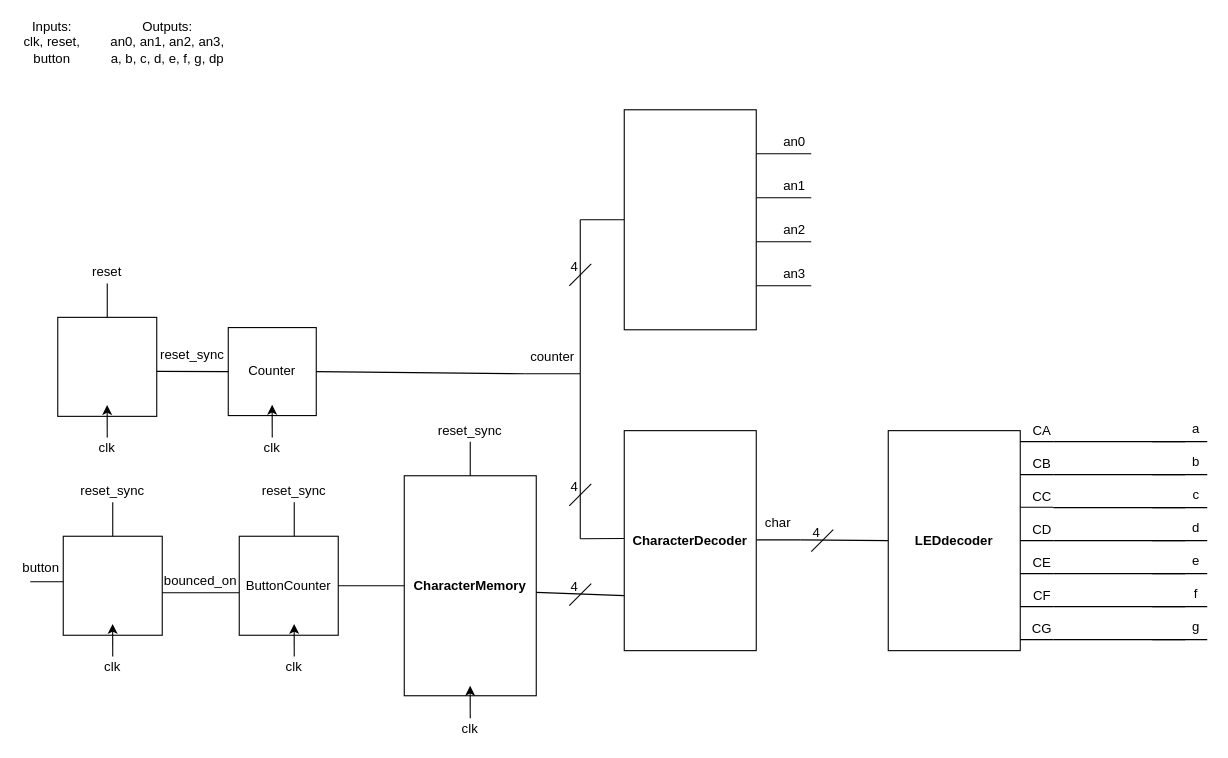
Some shapes in this 1228 by 758 pixel diagram are drawn without their labels. The box of each missing label's shape, as (x1, y1, x2, y2) in pixels:
AnodeDecoder: (623, 109, 756, 330)
InputDebouncer: (62, 535, 162, 635)
ResetDebouncer: (57, 316, 157, 416)
